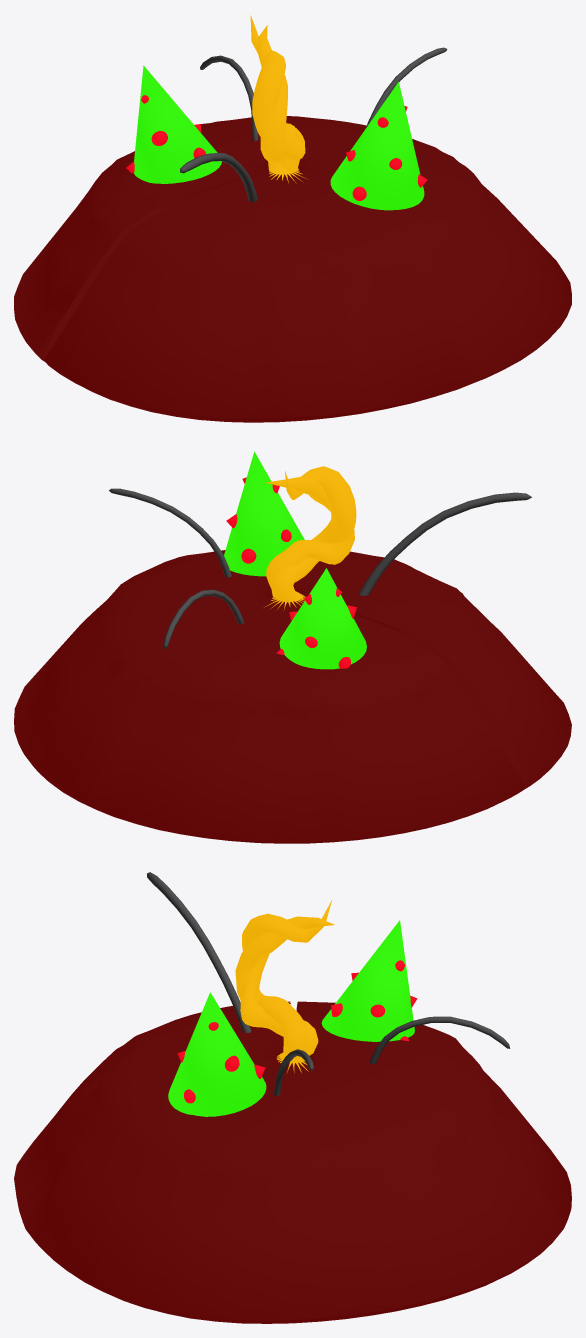
The model's file is Plant_01_ranke_stage01.gltf.
The picture shows the model from 3 angles, top to bottom: view 1: azimuth 30°, elevation 25°; view 2: azimuth 150°, elevation 25°; view 3: azimuth 270°, elevation 25°; orthographic projection. The views are drawn at different scales.
Visible parts, largest first — view 1: Cone.002; view 2: Cone.002; view 3: Cone.002.
Part boxes in pixels (x1,y1,x2,y2): Cone.002: [14, 15, 571, 422]; Cone.002: [14, 451, 571, 843]; Cone.002: [14, 872, 571, 1323].
Size of the model in its own units: 0.3875 by 0.2216 by 0.3677.
